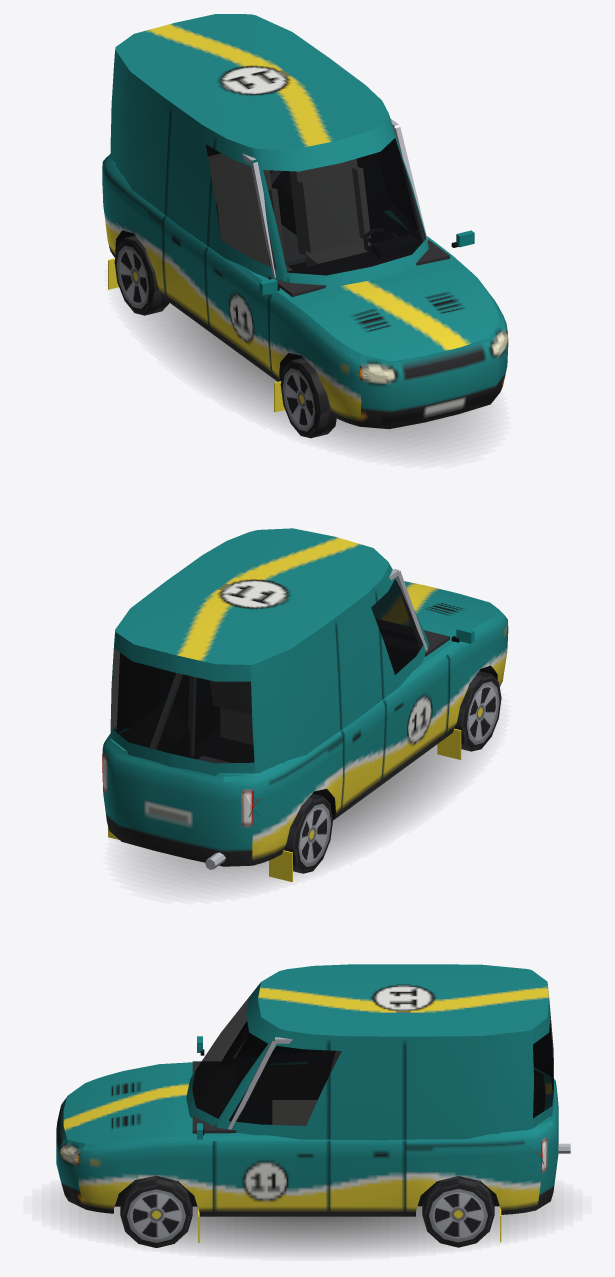
Rendered from cafune.glb.
3 views of the same model, one above another, from view 1: azimuth 30°, elevation 25°; view 2: azimuth 150°, elevation 25°; view 3: azimuth 270°, elevation 25° (orthographic). The views are drawn at different scales.
Visible parts, largest first — view 1: Carroceria, Interior, Capo_malha, Porta_D_malha, Sombra, Porta_TD_malha, Roda_DD, Roda_TD, Porta_E_malha; view 2: Carroceria, Tampa_D_malha, Interior, Tampa_E_malha, Sombra, Porta_D_malha, Porta_TD_malha, Capo_malha, Roda_TD, Roda_DD; view 3: Carroceria, Porta_E_malha, Porta_TE_malha, Sombra, Interior, Capo_malha, Roda_DE, Roda_TE, Tampa_E_malha, Tampa_D_malha, Porta_D_malha.
Boxes of the visible parts, <box> form: Carroceria: <box>102,14,508,429</box>; Interior: <box>206,118,449,297</box>; Capo_malha: <box>302,266,504,361</box>; Porta_D_malha: <box>205,133,283,369</box>; Sombra: <box>138,303,487,454</box>; Porta_TD_malha: <box>163,103,215,323</box>; Roda_DD: <box>280,357,336,438</box>; Roda_TD: <box>114,235,169,315</box>; Porta_E_malha: <box>380,114,427,242</box>; Carroceria: <box>102,528,508,881</box>; Tampa_D_malha: <box>168,655,254,847</box>; Interior: <box>117,569,449,762</box>; Tampa_E_malha: <box>108,632,173,835</box>; Sombra: <box>127,745,477,890</box>; Porta_D_malha: <box>375,564,449,776</box>; Porta_TD_malha: <box>335,586,385,807</box>; Capo_malha: <box>372,580,504,632</box>; Roda_TD: <box>283,793,332,873</box>; Roda_DD: <box>454,671,501,751</box>; Carroceria: <box>56,964,570,1242</box>; Porta_E_malha: <box>214,1030,329,1209</box>; Porta_TE_malha: <box>329,1035,405,1209</box>; Sombra: <box>60,1194,554,1253</box>; Interior: <box>130,1026,544,1184</box>; Capo_malha: <box>68,1065,175,1150</box>; Roda_DE: <box>120,1175,192,1247</box>; Roda_TE: <box>422,1176,494,1247</box>; Tampa_E_malha: <box>532,1000,558,1188</box>; Tampa_D_malha: <box>533,984,558,1113</box>; Porta_D_malha: <box>225,1022,308,1056</box>.
Bounding box in the file's own units: 2.26 × 1.92 × 4.86.
13 materials, 5 textured.
